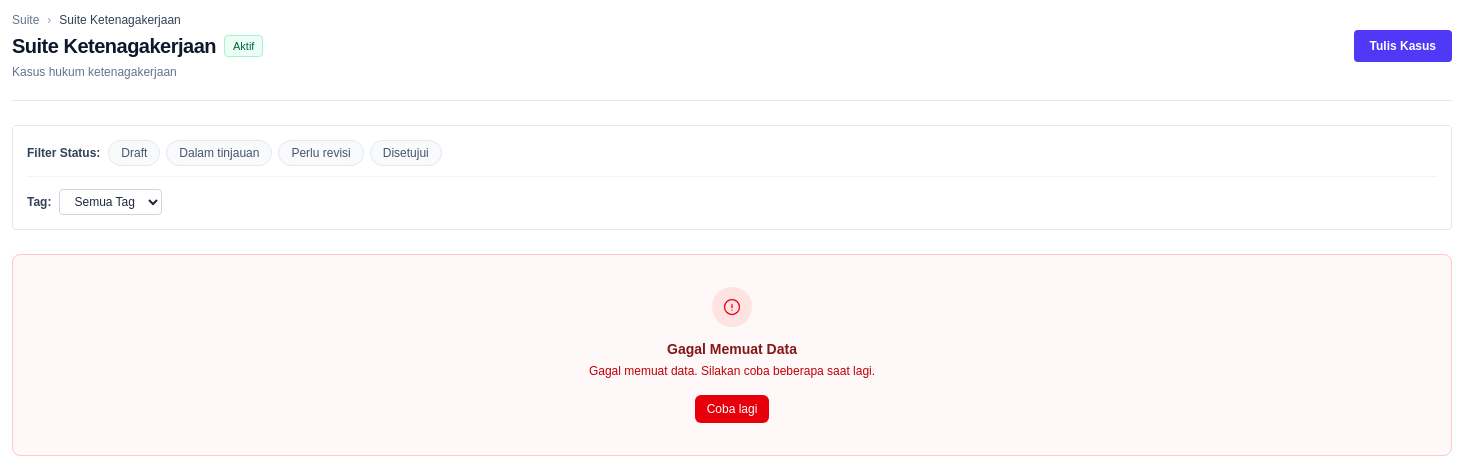
Test: SuiteDetailPage (SCRUM-110) › menampilkan ErrorState untuk error 5xx dan memuat ulang lewat tombol coba lagi
This screenshot has width=1464, height=473.
Expected: the text "Gagal memuat data. Silakan coba beberapa saat lagi." is shown, top-left (589, 363), bottom-right (875, 379)
Click the button "Coba lagi" at coordinates (732, 409), box top-left (695, 395), bottom-right (769, 423)
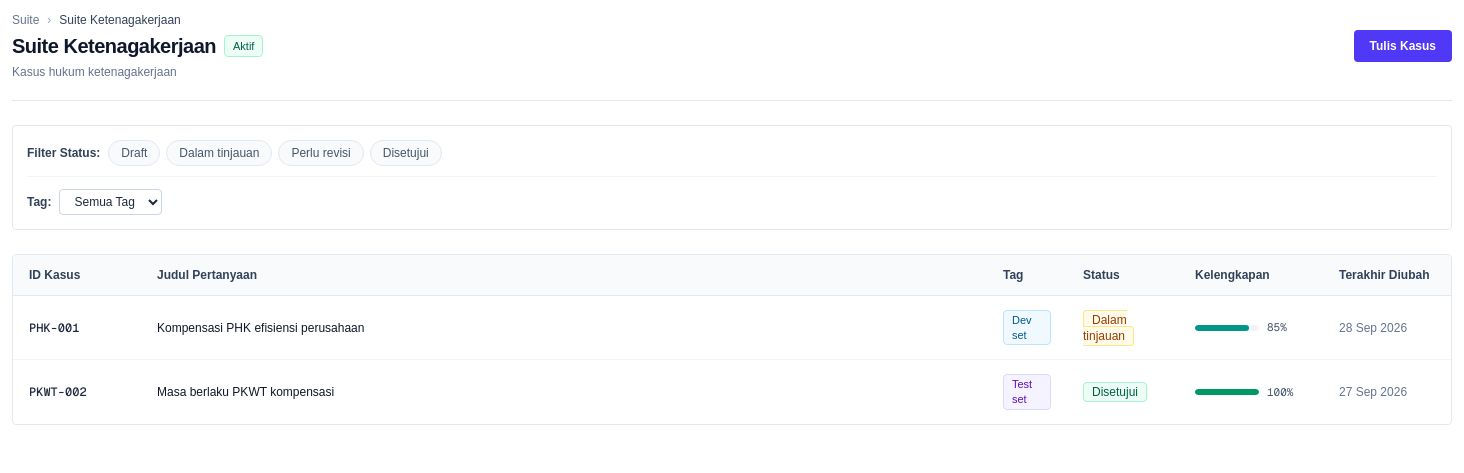
Expected: the link "PHK-001" is shown, top-left (29, 320), bottom-right (79, 336)
